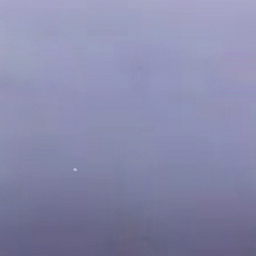Target: (71, 165, 78, 172)
